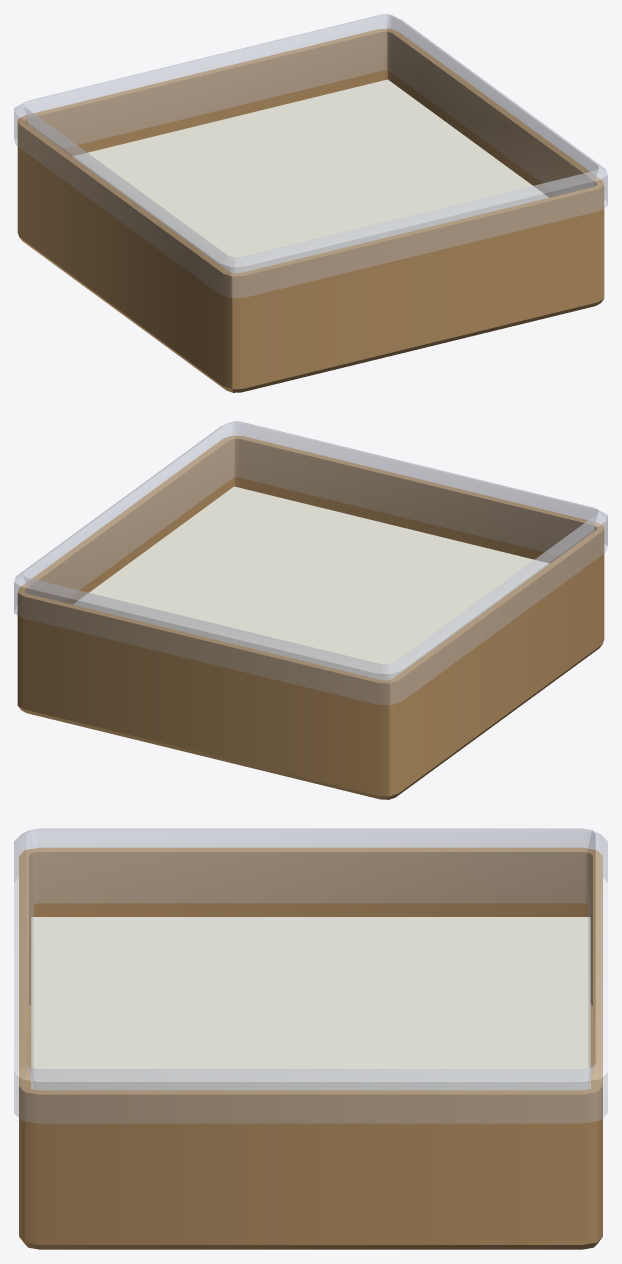
The model's file is caja_medallones_12.glb.
3 renders of one model, top to bottom at view 1: azimuth 30°, elevation 25°; view 2: azimuth 150°, elevation 25°; view 3: azimuth 270°, elevation 25°, orthographic. The views are drawn at different scales.
Visible parts, largest first — view 1: caja_medallones_12, pieza_separador_2; view 2: caja_medallones_12, pieza_separador_2; view 3: caja_medallones_12, pieza_separador_2.
Part boxes in pixels (x1,y1,x2,y2): caja_medallones_12: (14, 14, 607, 392); pieza_separador_2: (72, 79, 548, 273); caja_medallones_12: (14, 421, 607, 799); pieza_separador_2: (73, 486, 549, 680); caja_medallones_12: (14, 828, 607, 1249); pieza_separador_2: (31, 917, 590, 1089).
Bounding box in the file's own units: 0.24 × 0.08 × 0.24.
